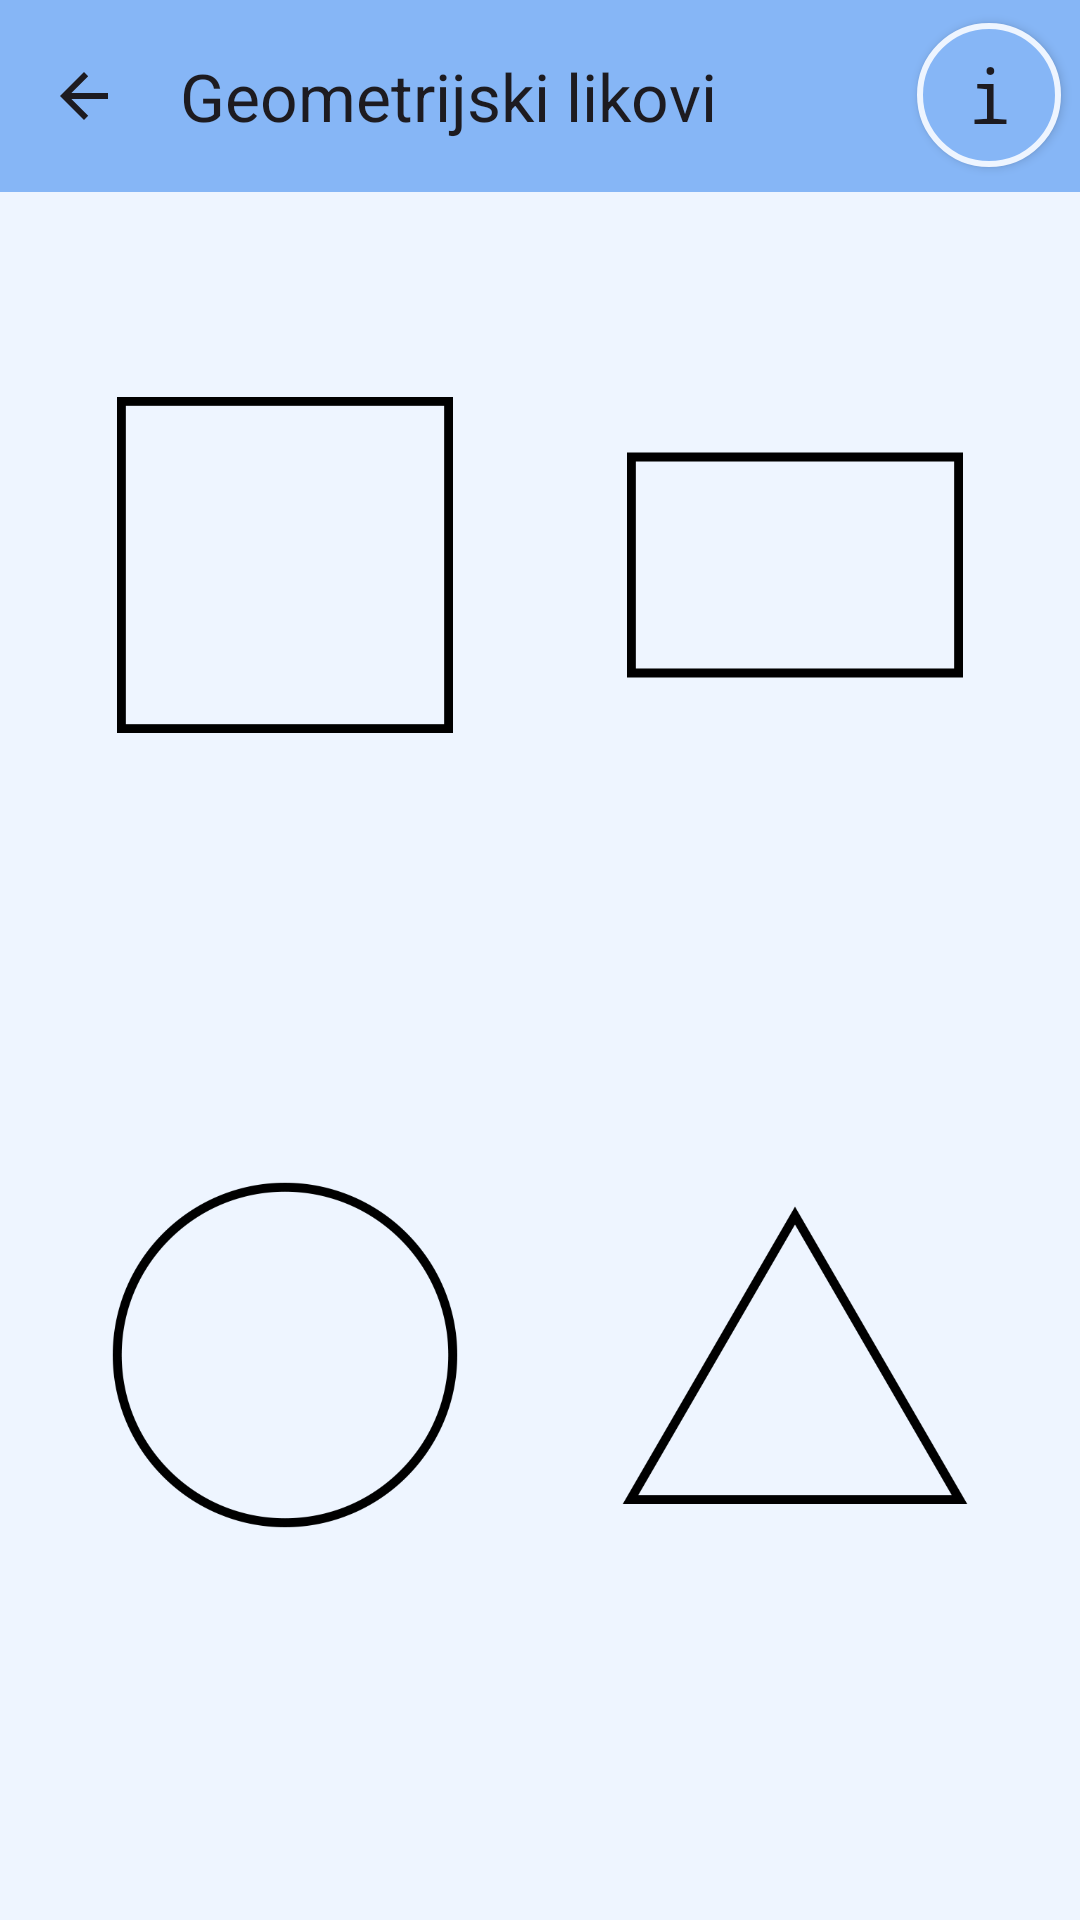

Where icons sit on this 1080w x 1920h app screen, as bbox=(x1, y1, x2, y2):
Krug: bbox=(112, 1182, 458, 1528)
Kvadrat: bbox=(117, 397, 453, 733)
Pravokutnik: bbox=(627, 452, 963, 678)
Trokut: bbox=(623, 1207, 967, 1504)
